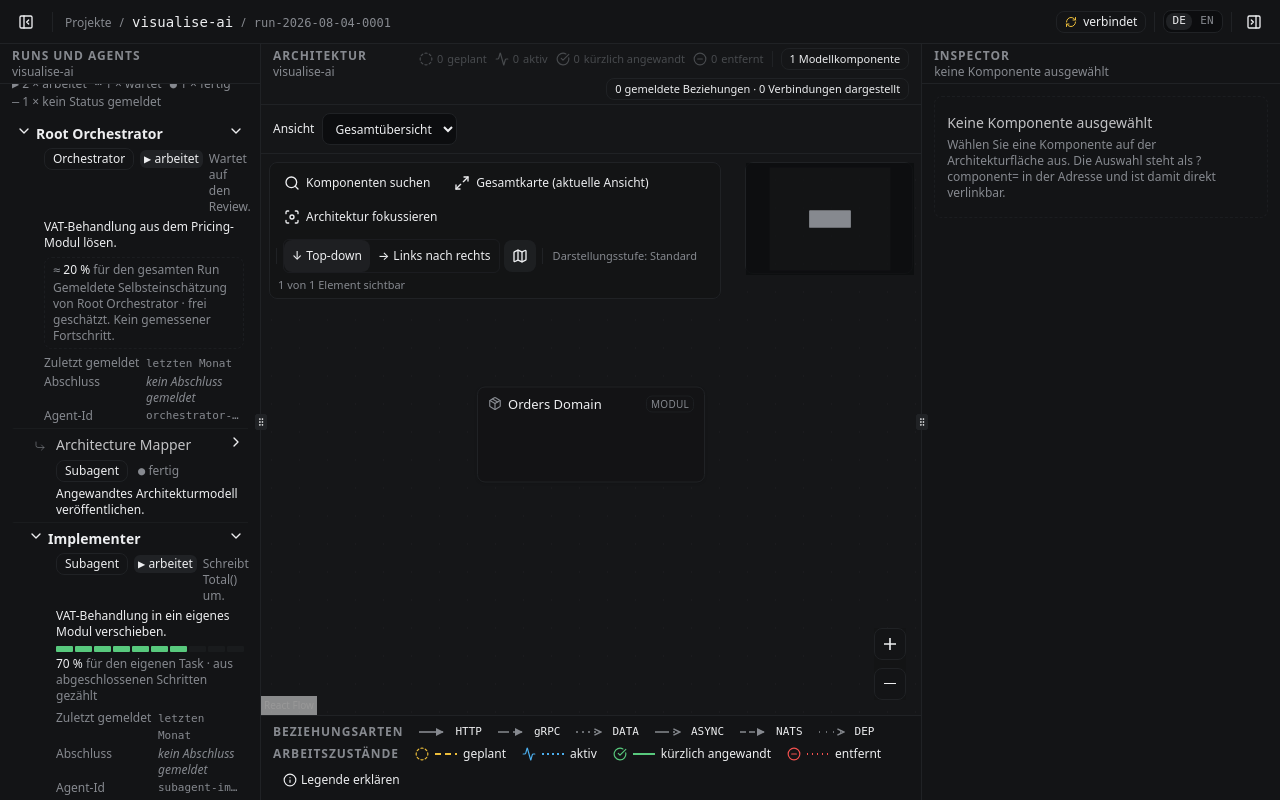
opening and closing a row › keeps a row the user opened open when the next report arrives
This screenshot has width=1280, height=800.
(page scrolled)
expect the element with test id "agent-tree" is shown: met, box [12,84,248,799]
Click the button with test id "agent-detail-toggle-subagent-architect". click: click(236, 442)
box: [228,434,244,450]
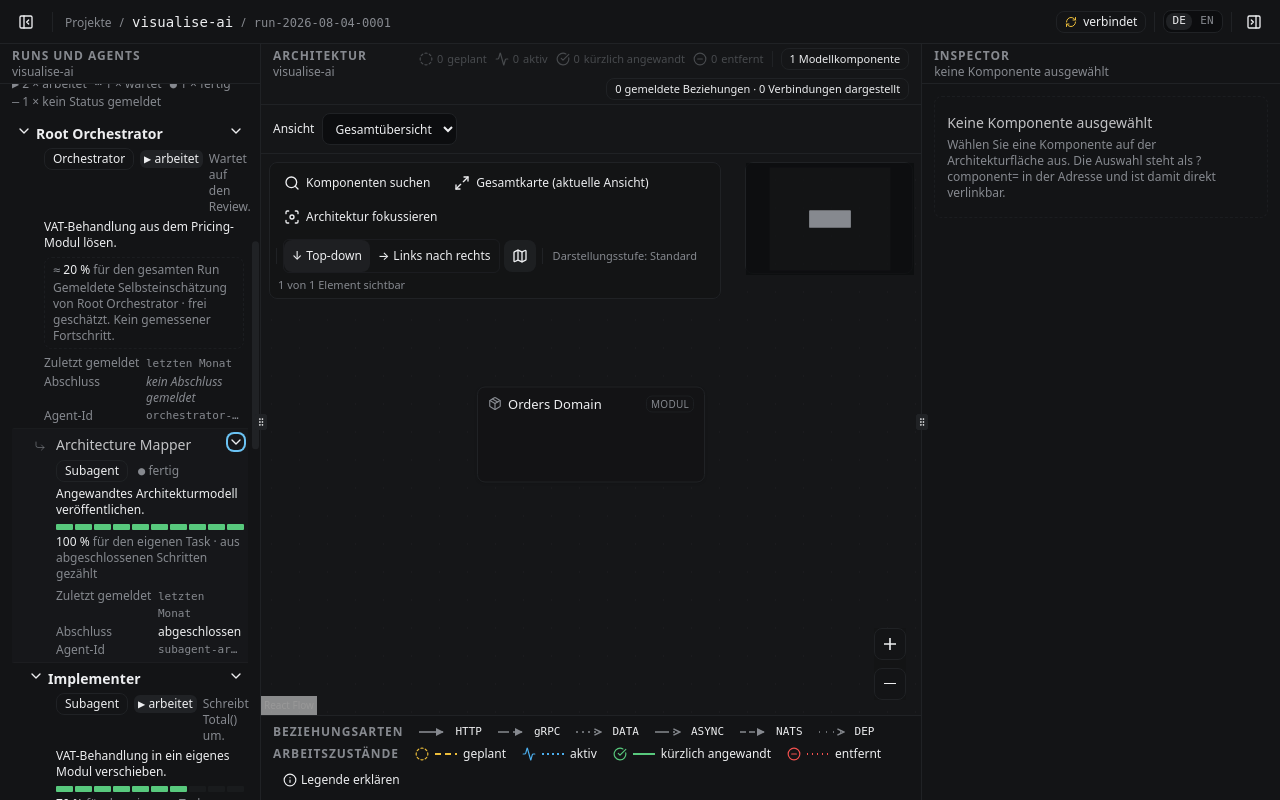
expect the element with test id "agent-progress-subagent-architect" shows "100 %": met, box [56,533,90,550]
